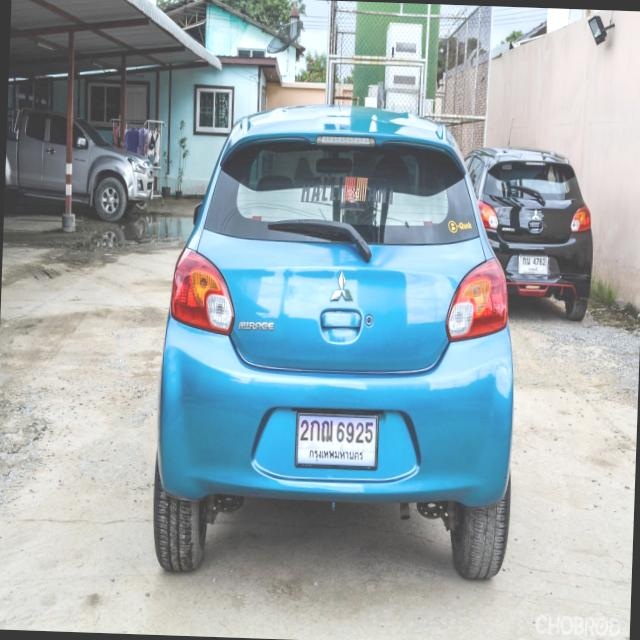license_plate: (294, 408, 381, 471)
